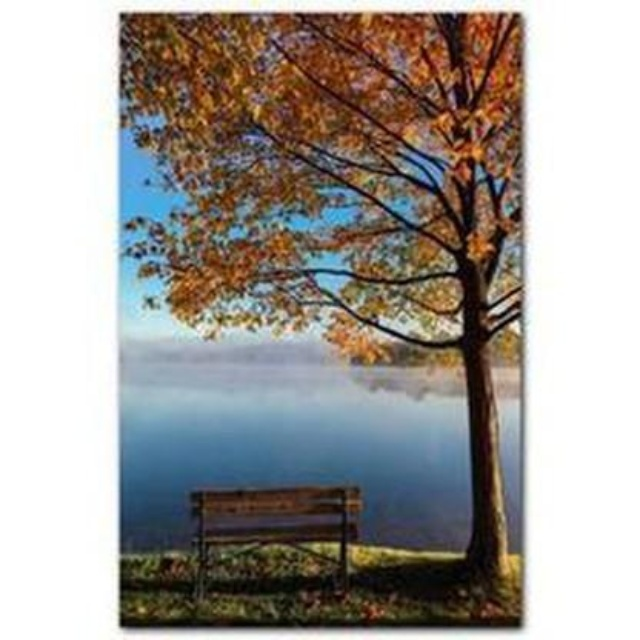obstacle: (178, 478, 377, 606)
